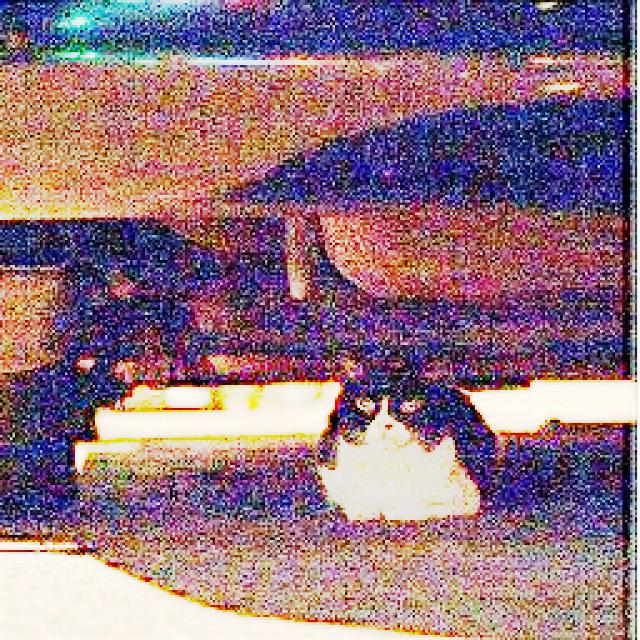cat: (278, 316, 512, 543)
